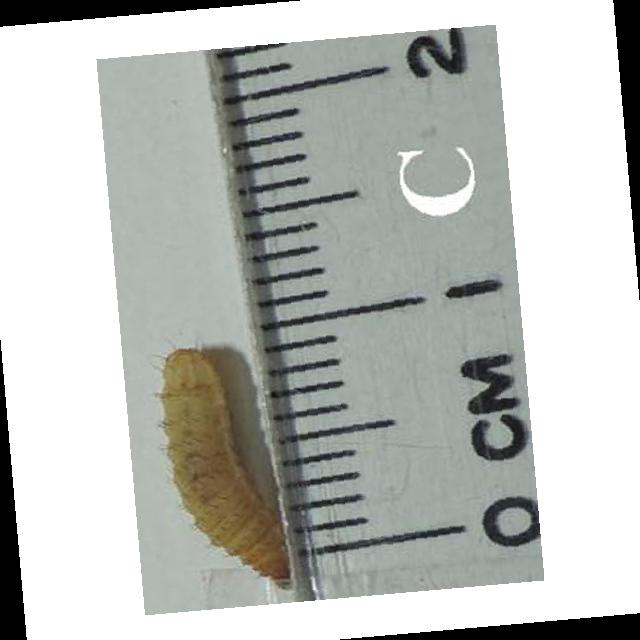Maggot: (158, 346, 297, 591)
